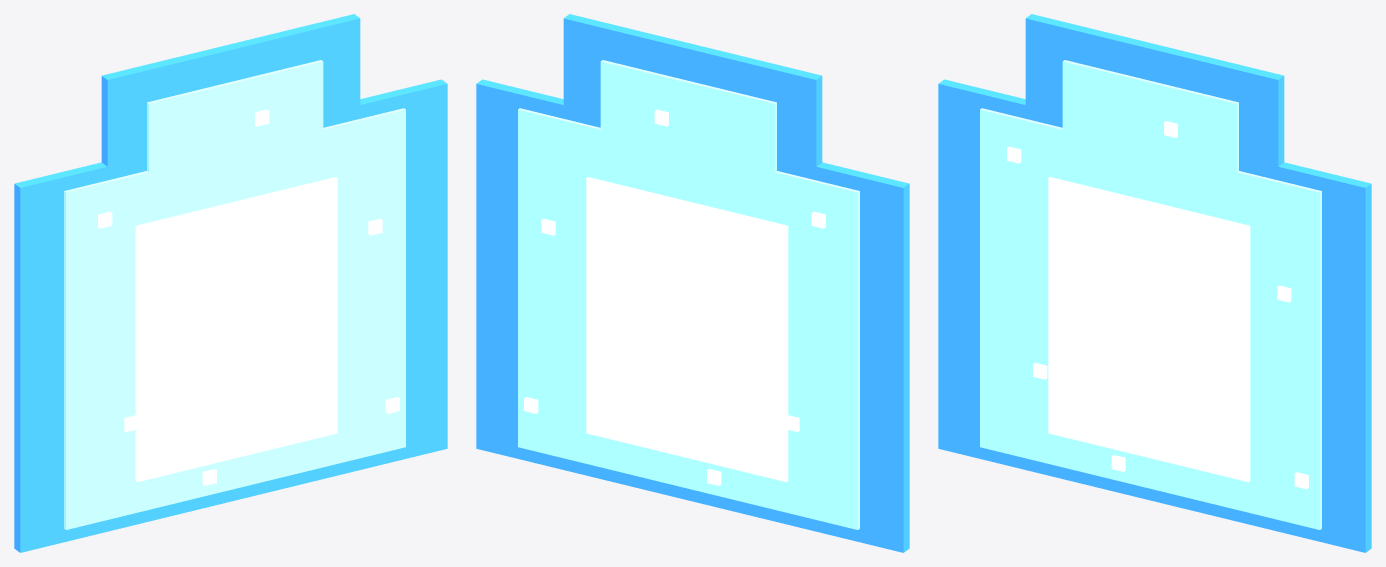
The model's file is th-portal-blue.glb.
The picture shows the model from 3 angles, left to right: view 1: azimuth 30°, elevation 25°; view 2: azimuth 150°, elevation 25°; view 3: azimuth 330°, elevation 25°; orthographic projection.
Visible parts, largest first — view 1: box-prop; view 2: box-prop; view 3: box-prop.
Part boxes in pixels (box(x1,y1,x2,y2)): box-prop: box(14, 14, 447, 552); box-prop: box(476, 14, 909, 552); box-prop: box(938, 14, 1371, 552).
Bounding box in the file's own units: 4.9 × 4.95 × 0.34.
